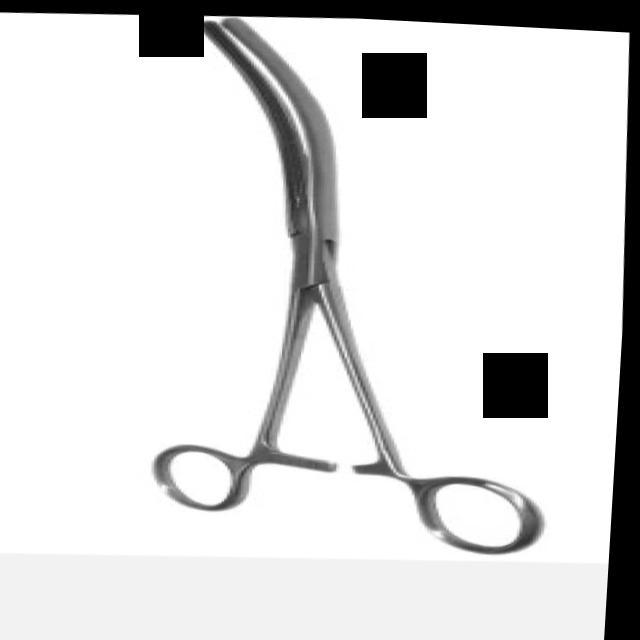Doyel Instestinal Forceps: (129, 6, 576, 566)
